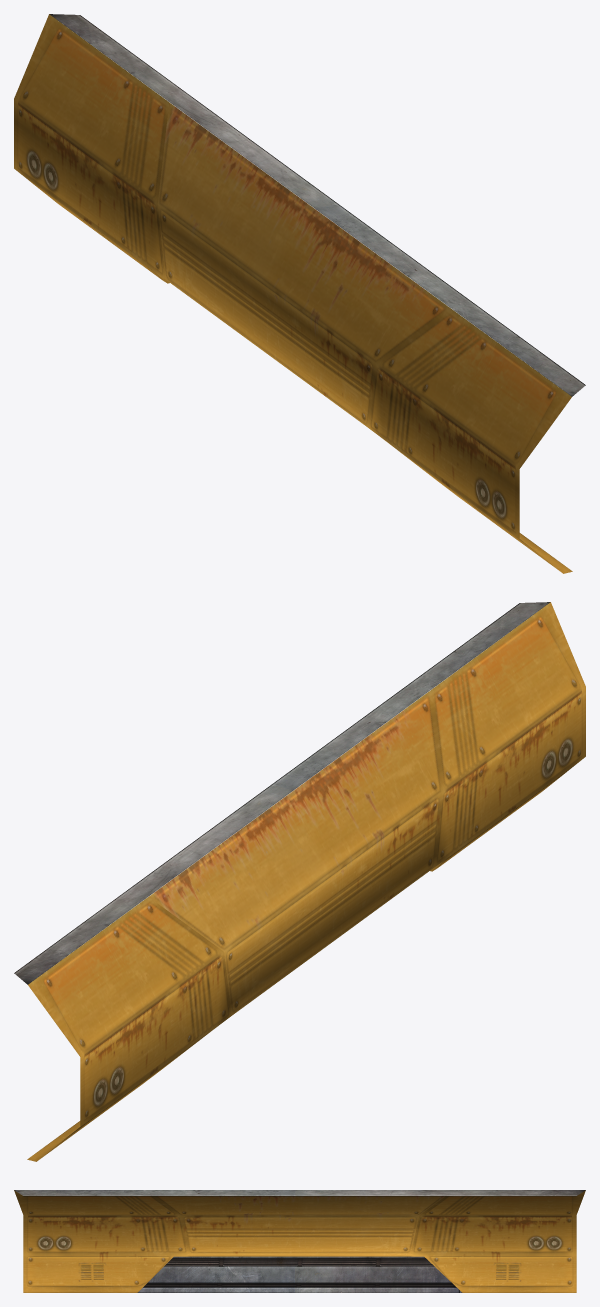
The model's file is ARC_Wall_UpperA_Single.FBX.
3 renders of one model, top to bottom at view 1: azimuth 30°, elevation 25°; view 2: azimuth 150°, elevation 25°; view 3: azimuth 270°, elevation 25°, orthographic. The views are drawn at different scales.
Parts seen in each view (by area): view 1: ARC_Wall_UpperA_Single; view 2: ARC_Wall_UpperA_Single; view 3: ARC_Wall_UpperA_Single.
Boxes of the visible parts, x1=… form: ARC_Wall_UpperA_Single: x1=14, y1=14, x2=585, y2=573; ARC_Wall_UpperA_Single: x1=14, y1=602, x2=585, y2=1161; ARC_Wall_UpperA_Single: x1=14, y1=1190, x2=585, y2=1292.
Size of the model in its own units: 37.81 by 100 by 517.
1 material, 1 textured.
